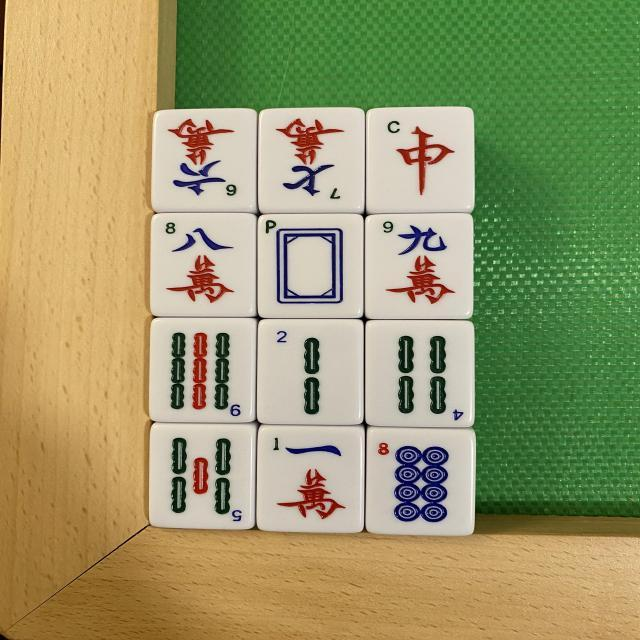hdr: (368, 108, 473, 214)
hdw: (258, 212, 363, 318)
sb2: (255, 320, 362, 424)
sb4: (367, 318, 473, 426)
sb5: (148, 424, 257, 530)
sb9: (150, 317, 259, 422)
sc1: (255, 424, 362, 532)
sc6: (154, 112, 258, 214)
sc7: (260, 109, 368, 212)
sc8: (146, 216, 252, 321)
sc9: (368, 215, 472, 323)
sd8: (367, 431, 473, 538)
